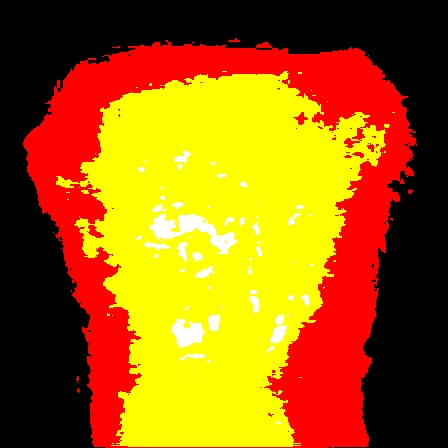coin_1: (75, 319, 95, 339)
coin_2: (39, 216, 59, 236)
coin_3: (392, 265, 412, 285)
coin_4: (434, 161, 448, 181)
